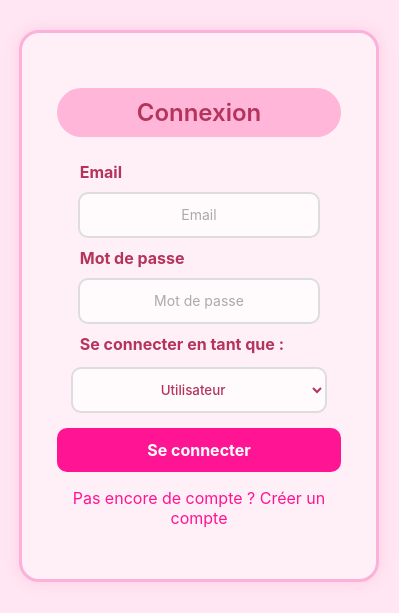
Scenario: erreur 401: affiche message d'erreur serveur
This screenshot has width=399, height=613.
In the field with placeholder "Email": (199, 215) x1=78 y1=192 x2=320 y2=238, type "user@example.com"
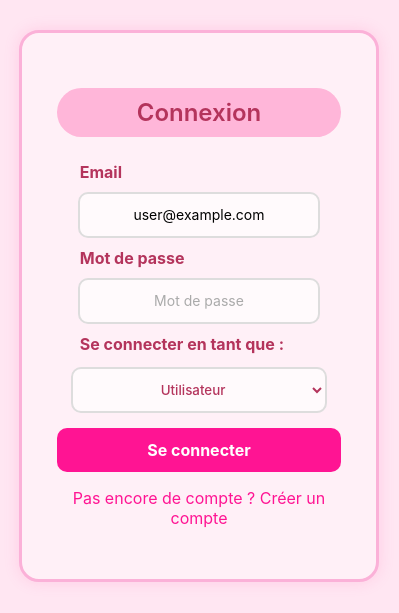
In the password field with placeholder "Mot de passe": (199, 301) x1=78 y1=278 x2=320 y2=324, type "badpassword"
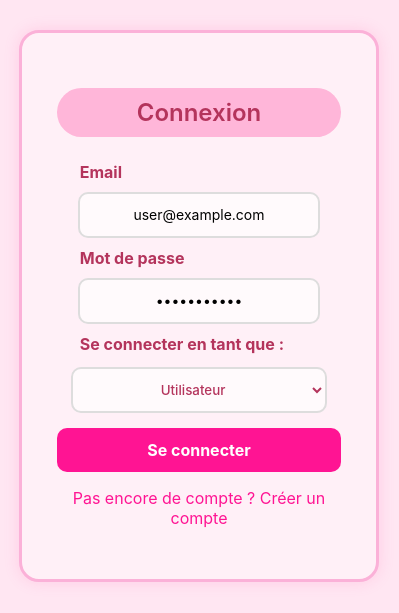
Click the button "Se connecter": (199, 450) x1=57 y1=428 x2=341 y2=472
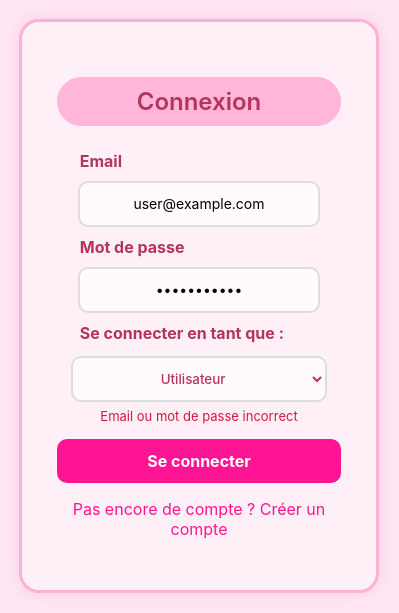
Result: the text "Email ou mot de passe incorrect" is shown at x1=100 y1=408 x2=298 y2=424
